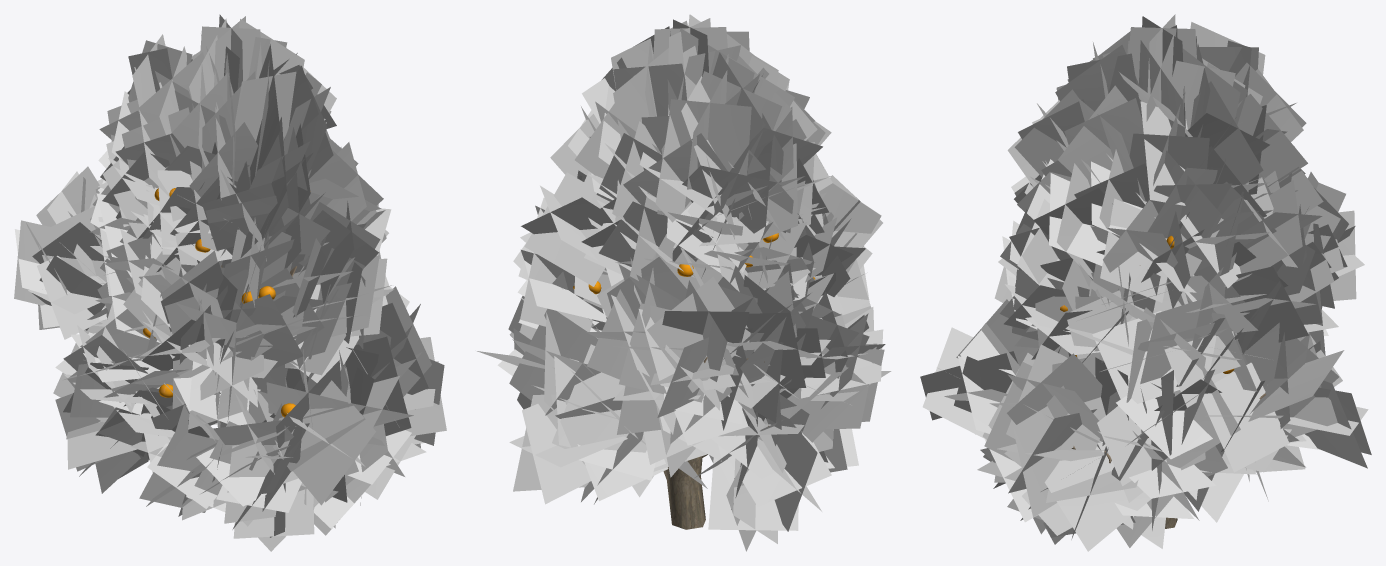
File: tree.FBX
The picture shows the model from 3 angles, left to right: view 1: azimuth 30°, elevation 25°; view 2: azimuth 150°, elevation 25°; view 3: azimuth 270°, elevation 25°; orthographic projection. The views are drawn at different scales.
Visible parts, largest first — view 1: OP_C1_lodingtree01_a_Detached_531, OP_C1_lodingtree02; view 2: OP_C1_lodingtree01_a_Detached_531, OP_C1_lodingtree02; view 3: OP_C1_lodingtree01_a_Detached_531.
Part boxes in pixels (bbox=[...]): OP_C1_lodingtree01_a_Detached_531: bbox=[14, 14, 446, 551]; OP_C1_lodingtree02: bbox=[143, 188, 296, 422]; OP_C1_lodingtree01_a_Detached_531: bbox=[477, 14, 891, 551]; OP_C1_lodingtree02: bbox=[573, 233, 815, 529]; OP_C1_lodingtree01_a_Detached_531: bbox=[920, 14, 1371, 551].
Bounding box in the file's own units: 3.01 × 3.99 × 3.28.
